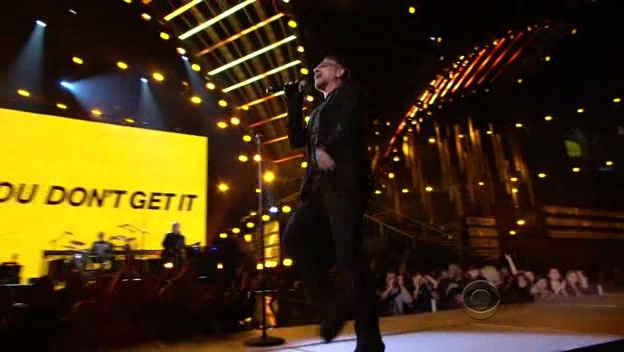person: (296, 57, 368, 235), (293, 57, 365, 235), (299, 57, 371, 235), (296, 54, 368, 232), (296, 60, 368, 238)
target_negative: (582, 22, 624, 260), (92, 59, 124, 279), (550, 259, 588, 298), (420, 221, 572, 226), (128, 241, 156, 267), (505, 335, 575, 338)
